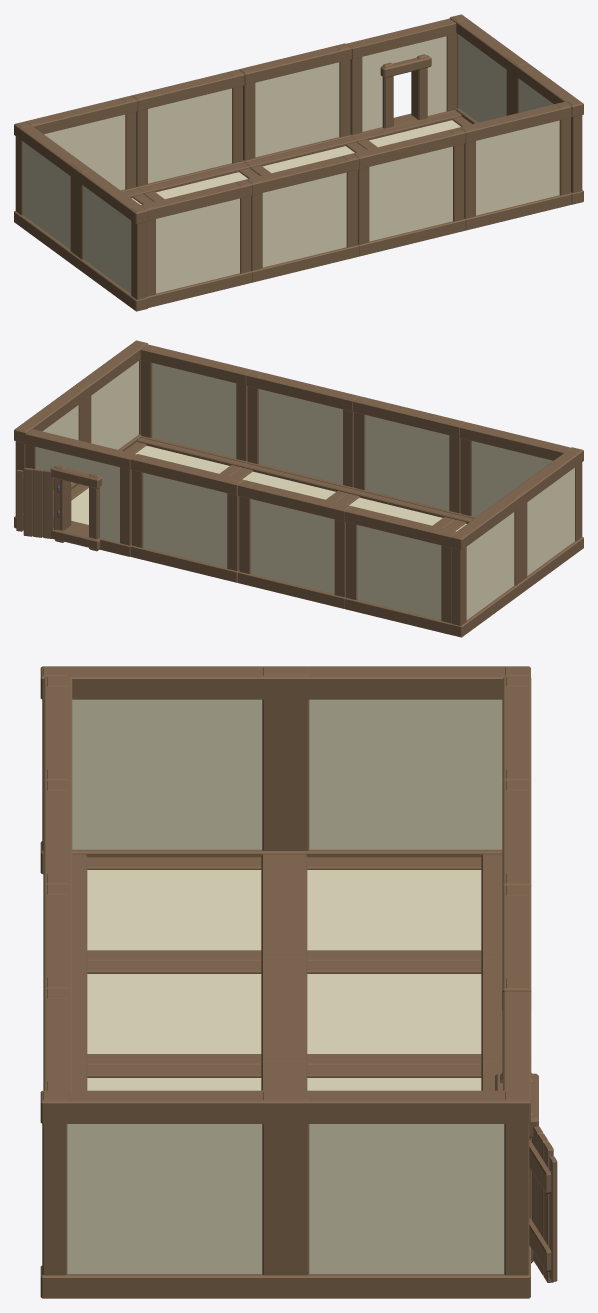
Rendered from MainHouse 1.fbx.
3 views of the same model, one above another, from view 1: azimuth 30°, elevation 25°; view 2: azimuth 150°, elevation 25°; view 3: azimuth 270°, elevation 25° (orthographic). The views are drawn at different scales.
Parts seen in each view (by area): view 1: Wall_01.014, Wall_01.024, Wall_01.008, Wall_01.015, Wall_01.016, Wall_01.017, Cube.004, Wall_01.013, Wall_01.012, Wall_01.009, Wall_01.010, Plank.165 (+47 smaller); view 2: Wall_01.009, Wall_01.024, Wall_01.008, Wall_01.014, Wall_01.016, Wall_01.017, Wall_01.012, Wall_01.013, Wall_01.015, Wall_01.011, Cube.004, Plank.170 (+52 smaller); view 3: Wall_01.010, Wall_01.011, Wall_01.012, Wall_01.013, Wall_01.021, Wall_01.026, Wall_01.020, Wall_01.025, Plank.113, Plank.109, Plank.121, Plank.117 (+39 smaller).
Part boxes in pixels (bbox=[...]): Wall_01.014: bbox=[262, 172, 346, 267]; Wall_01.024: bbox=[255, 62, 339, 157]; Wall_01.008: bbox=[148, 88, 231, 183]; Wall_01.015: bbox=[156, 198, 239, 293]; Wall_01.016: bbox=[476, 120, 559, 215]; Wall_01.017: bbox=[369, 146, 452, 241]; Cube.004: bbox=[362, 36, 446, 131]; Wall_01.013: bbox=[83, 186, 131, 293]; Wall_01.012: bbox=[23, 141, 70, 249]; Wall_01.009: bbox=[44, 114, 125, 190]; Wall_01.010: bbox=[459, 35, 506, 122]; Plank.165: bbox=[238, 43, 351, 84]; Wall_01.009: bbox=[357, 525, 441, 619]; Wall_01.024: bbox=[143, 473, 227, 567]; Wall_01.008: bbox=[250, 499, 334, 593]; Wall_01.014: bbox=[365, 415, 449, 509]; Wall_01.016: bbox=[152, 363, 236, 457]; Wall_01.017: bbox=[259, 389, 342, 483]; Wall_01.012: bbox=[466, 512, 514, 619]; Wall_01.013: bbox=[527, 467, 574, 575]; Wall_01.015: bbox=[472, 441, 552, 516]; Wall_01.011: bbox=[91, 361, 138, 449]; Cube.004: bbox=[35, 447, 119, 542]; Plank.170: bbox=[23, 429, 135, 469]; Wall_01.010: bbox=[309, 1124, 504, 1273]; Wall_01.011: bbox=[67, 1124, 262, 1273]; Wall_01.012: bbox=[309, 699, 502, 849]; Wall_01.013: bbox=[72, 699, 262, 849]; Wall_01.021: bbox=[307, 870, 481, 950]; Wall_01.026: bbox=[87, 870, 261, 950]; Wall_01.020: bbox=[307, 974, 481, 1053]; Wall_01.025: bbox=[87, 974, 261, 1053]; Plank.113: bbox=[40, 1090, 287, 1123]; Plank.109: bbox=[284, 1090, 530, 1123]; Plank.121: bbox=[40, 666, 287, 699]; Plank.117: bbox=[284, 666, 530, 699].
Bounding box in the file's own units: 1882 × 410 × 939.
